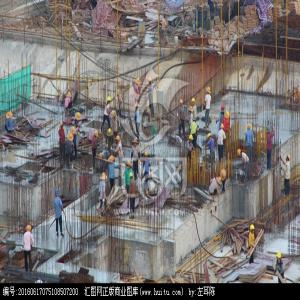blue: (267, 126, 271, 135), (56, 190, 60, 199), (193, 117, 197, 124)
none: (164, 14, 168, 20)
red: (222, 104, 226, 113)
yellow: (251, 225, 256, 236), (286, 155, 292, 164), (225, 111, 231, 120), (277, 253, 282, 262), (238, 149, 243, 158), (27, 226, 32, 235), (206, 88, 211, 96), (208, 132, 212, 141), (218, 177, 222, 186), (137, 77, 141, 86), (127, 161, 131, 170), (133, 138, 137, 147), (110, 156, 114, 165), (102, 173, 106, 182), (95, 130, 99, 139), (248, 124, 252, 132), (190, 135, 194, 143), (180, 99, 184, 107), (145, 152, 149, 160), (130, 173, 134, 181), (61, 122, 65, 130), (8, 112, 12, 120), (117, 89, 121, 97), (113, 111, 117, 119), (68, 92, 72, 100), (221, 124, 225, 131), (192, 99, 196, 106), (190, 107, 194, 114), (148, 78, 152, 85), (117, 136, 121, 143), (100, 153, 104, 160), (108, 97, 112, 104), (109, 130, 113, 137)
